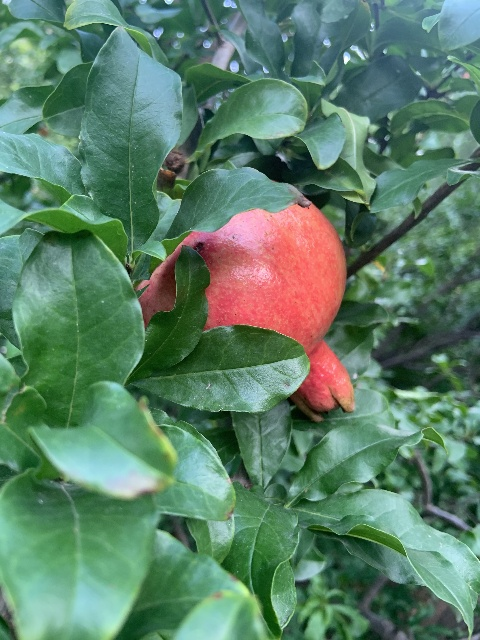ripe: (139, 200, 356, 414)
